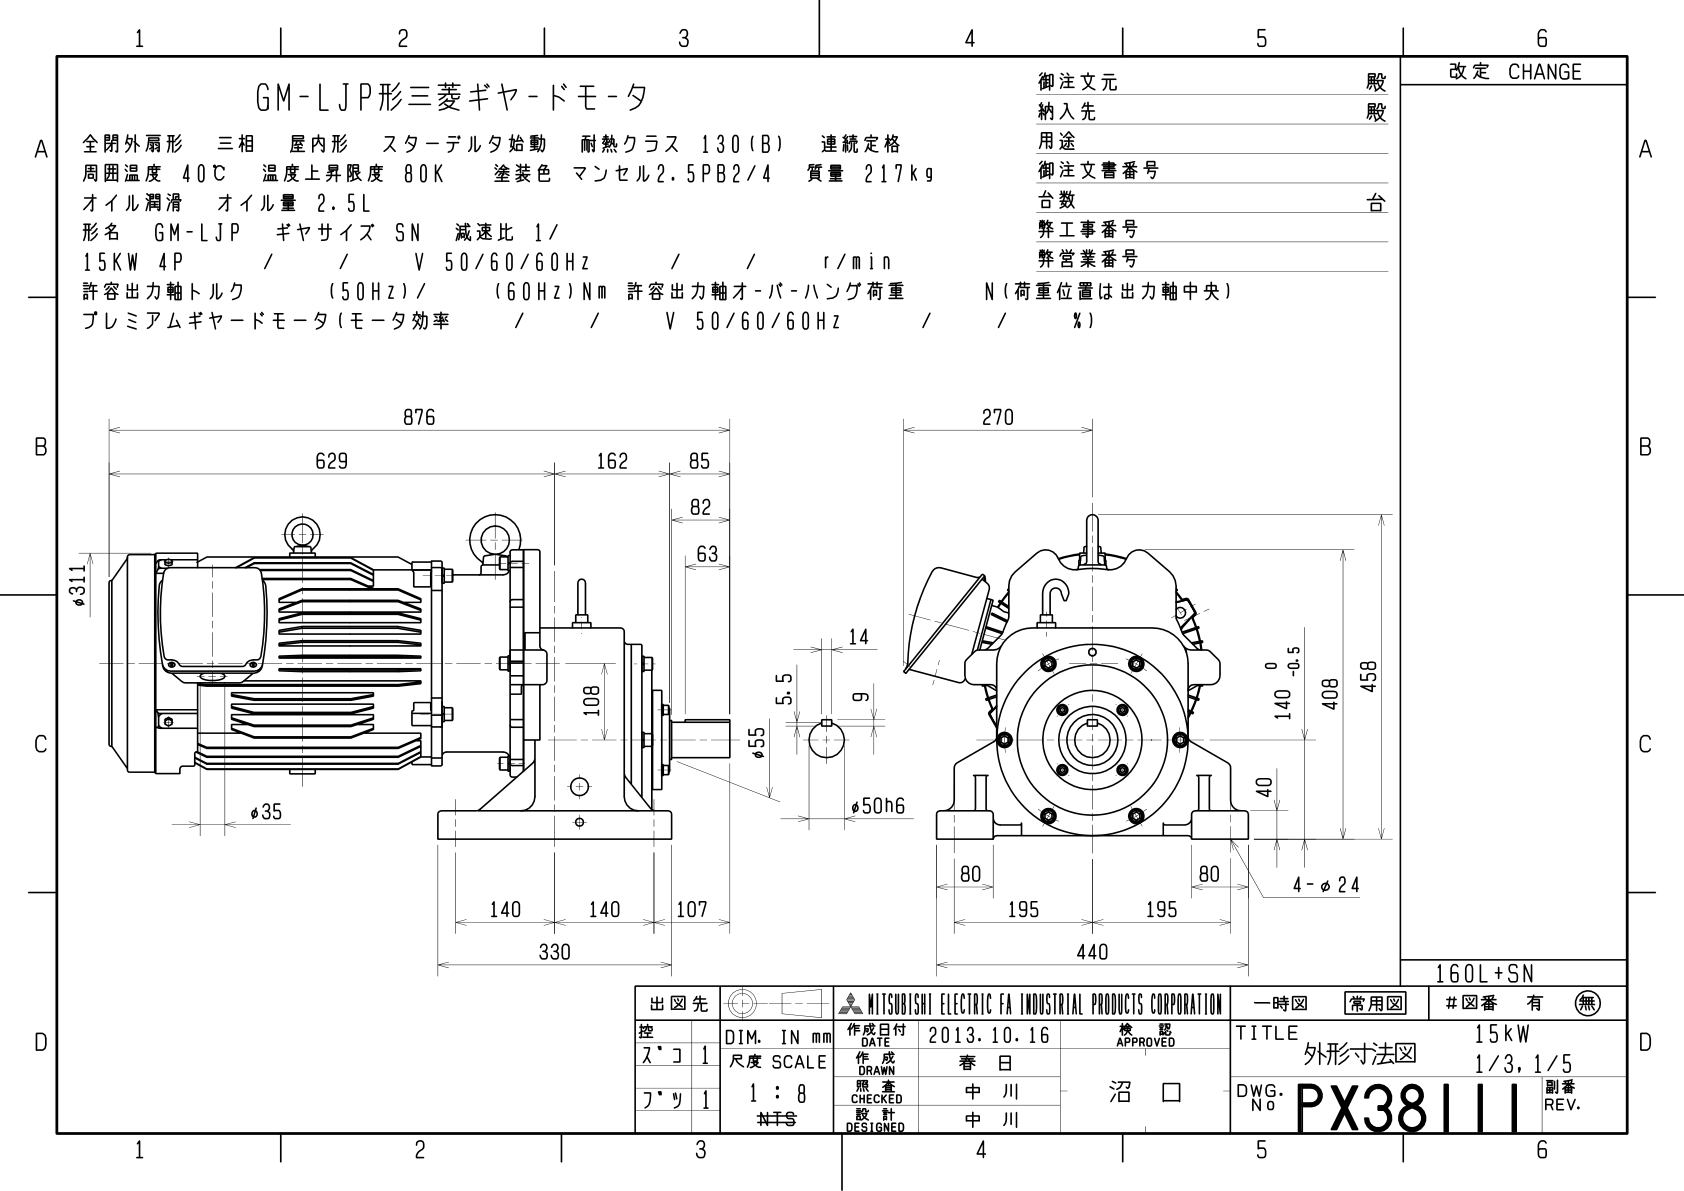GM_LJP_屋内_三相_脚: (1, 1, 1678, 1172)
